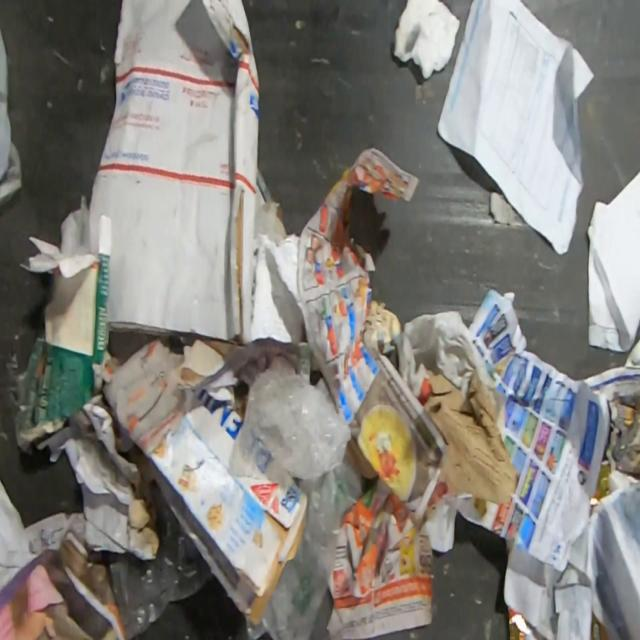cardboard: (89, 0, 262, 348), (126, 386, 309, 628), (11, 192, 116, 455), (422, 367, 518, 503)
soft_plastic: (260, 461, 362, 640), (101, 481, 212, 640), (240, 354, 352, 487), (0, 17, 24, 207), (588, 455, 611, 513), (508, 606, 535, 640), (590, 610, 610, 640)
